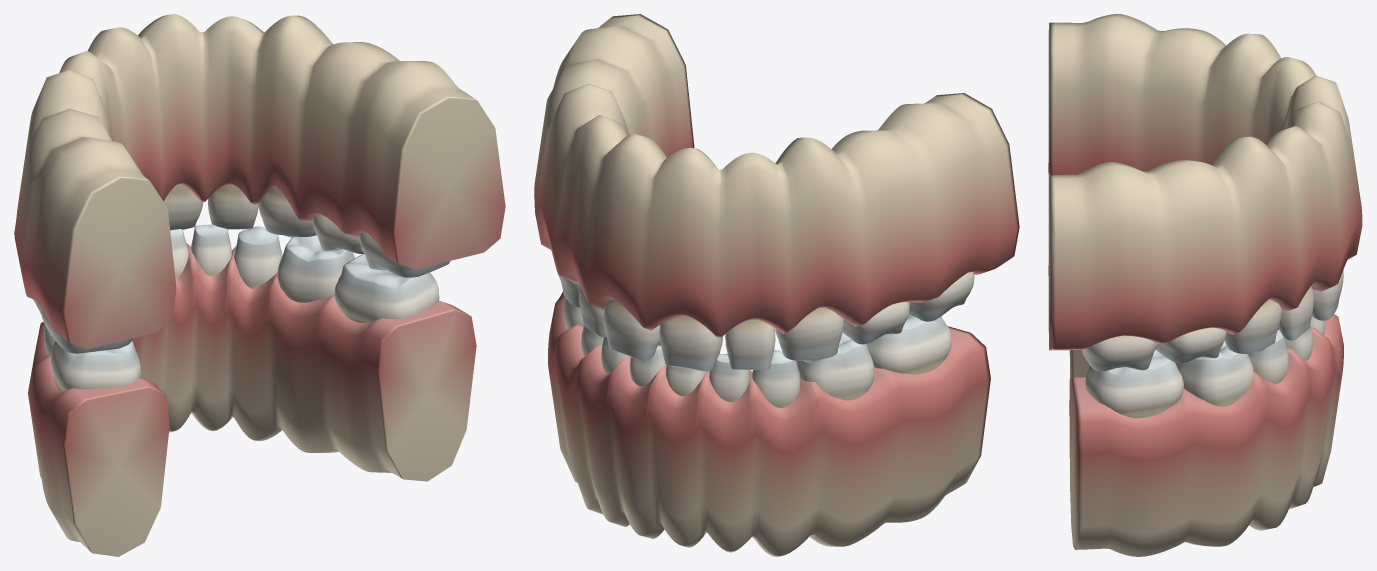
The model's file is teeth-deciduous.glb.
3 renders of one model, left to right at view 1: azimuth 30°, elevation 25°; view 2: azimuth 150°, elevation 25°; view 3: azimuth 270°, elevation 25°, orthographic. The views are drawn at different scales.
Visible parts, largest first — view 1: gum_upper, gum_lower, tooth_75, tooth_74, tooth_85, tooth_73, tooth_62, tooth_63, tooth_72, tooth_61, tooth_65, tooth_64 (+2 smaller); view 2: gum_upper, gum_lower, tooth_85, tooth_84, tooth_51, tooth_53, tooth_61, tooth_52, tooth_83, tooth_54, tooth_55, tooth_82 (+3 smaller); view 3: gum_upper, gum_lower, tooth_75, tooth_74, tooth_65, tooth_63, tooth_64, tooth_73, tooth_62, tooth_61, tooth_72.
Boxes of the visible parts, x1=… form: gum_upper: x1=14, y1=14, x2=505, y2=349; gum_lower: x1=28, y1=243, x2=476, y2=556; tooth_75: x1=334, y1=254, x2=439, y2=322; tooth_74: x1=277, y1=235, x2=354, y2=302; tooth_85: x1=51, y1=341, x2=140, y2=391; tooth_73: x1=234, y1=226, x2=282, y2=288; tooth_62: x1=208, y1=185, x2=258, y2=229; tooth_63: x1=258, y1=187, x2=316, y2=237; tooth_72: x1=191, y1=224, x2=231, y2=276; tooth_61: x1=163, y1=184, x2=203, y2=229; tooth_65: x1=359, y1=232, x2=450, y2=277; tooth_64: x1=312, y1=214, x2=364, y2=253; gum_upper: x1=534, y1=14, x2=1019, y2=337; gum_lower: x1=548, y1=291, x2=990, y2=556; tooth_85: x1=866, y1=314, x2=951, y2=374; tooth_84: x1=796, y1=332, x2=874, y2=400; tooth_51: x1=659, y1=316, x2=723, y2=371; tooth_53: x1=775, y1=307, x2=843, y2=362; tooth_61: x1=603, y1=299, x2=659, y2=360; tooth_52: x1=725, y1=320, x2=775, y2=370; tooth_83: x1=751, y1=350, x2=800, y2=408; tooth_54: x1=842, y1=302, x2=909, y2=344; tooth_55: x1=909, y1=272, x2=974, y2=321; tooth_82: x1=709, y1=353, x2=749, y2=402; gum_upper: x1=1048, y1=14, x2=1362, y2=350; gum_lower: x1=1069, y1=314, x2=1343, y2=556; tooth_75: x1=1085, y1=350, x2=1183, y2=418; tooth_74: x1=1177, y1=341, x2=1253, y2=406; tooth_65: x1=1082, y1=335, x2=1157, y2=371; tooth_63: x1=1224, y1=299, x2=1281, y2=353; tooth_64: x1=1156, y1=327, x2=1226, y2=363; tooth_73: x1=1248, y1=330, x2=1288, y2=383; tooth_62: x1=1278, y1=286, x2=1313, y2=340; tooth_61: x1=1312, y1=270, x2=1343, y2=320; tooth_72: x1=1285, y1=326, x2=1312, y2=360.
Size of the model in its own units: 51 by 47.05 by 33.07.
